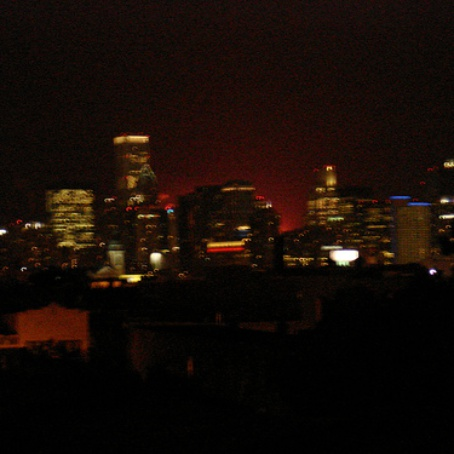building: (177, 183, 274, 267), (310, 173, 394, 270), (109, 133, 164, 275), (389, 195, 436, 274), (44, 183, 95, 255)
sky: (3, 1, 454, 156)
